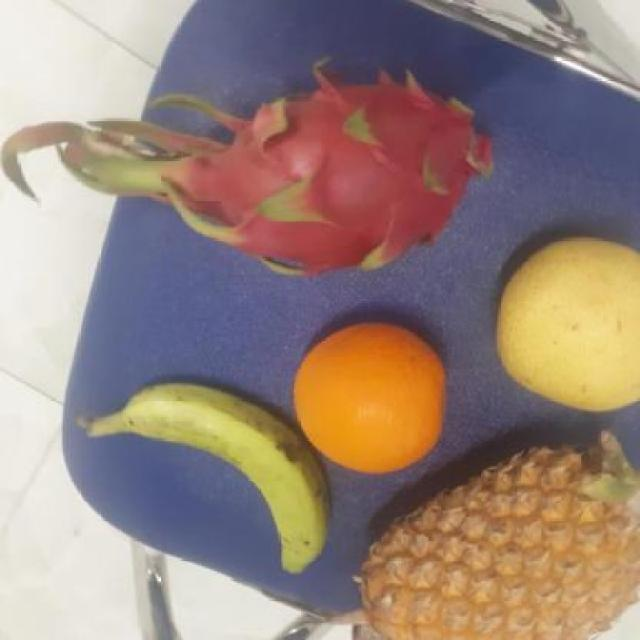banana: (107, 379, 344, 570)
dragon fruit: (172, 69, 517, 282)
guava: (496, 233, 639, 409), (292, 321, 454, 473)
pineapple: (364, 423, 640, 640)
